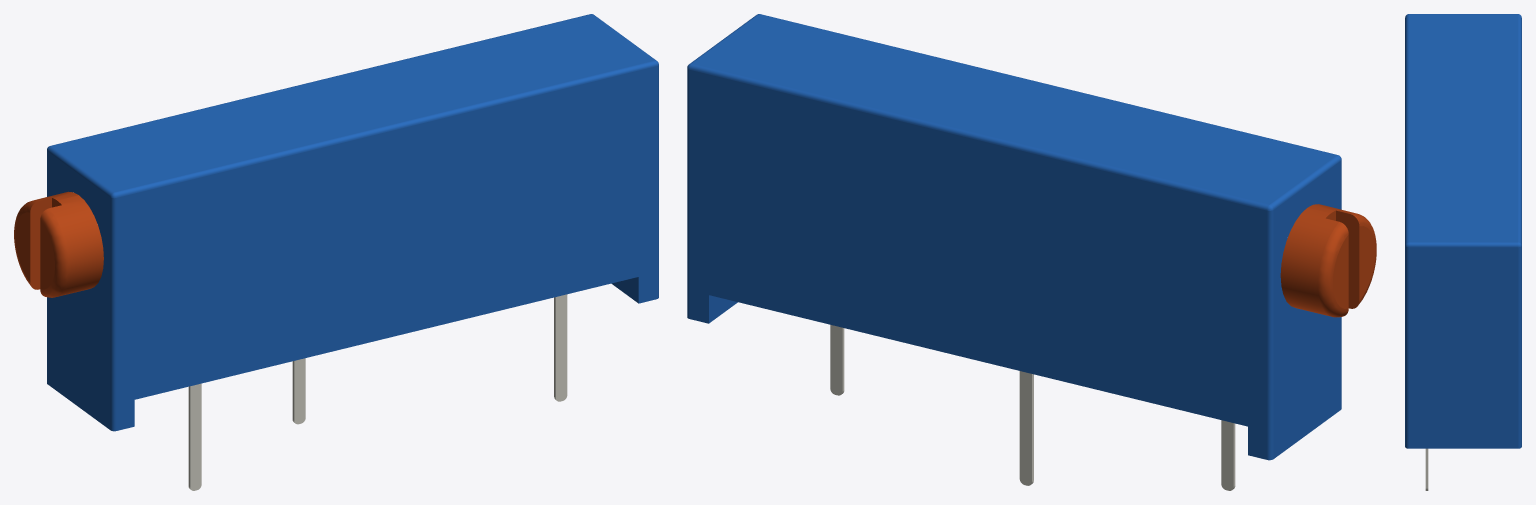
File: kc-potentiometer_bourns_3005_horizontal.glb
3 renders of one model, left to right at view 1: azimuth 30°, elevation 25°; view 2: azimuth 150°, elevation 25°; view 3: azimuth 270°, elevation 25°, orthographic. The views are drawn at different scales.
Visible parts, largest first — view 1: 0_0.16666666666666666_0.5_0, 0.4166666666666667_0.08333333333333333_0_0, 0.6666666666666666_0.6666666666666666_0.5833333333333334_0.8; view 2: 0_0.16666666666666666_0.5_0, 0.4166666666666667_0.08333333333333333_0_0, 0.6666666666666666_0.6666666666666666_0.5833333333333334_0.8; view 3: 0_0.16666666666666666_0.5_0, 0.6666666666666666_0.6666666666666666_0.5833333333333334_0.8.
Part boxes in pixels (x1,y1,x2,y2): 0_0.16666666666666666_0.5_0: (47, 14, 658, 431); 0.4166666666666667_0.08333333333333333_0_0: (14, 191, 103, 297); 0.6666666666666666_0.6666666666666666_0.5833333333333334_0.8: (188, 294, 567, 490); 0_0.16666666666666666_0.5_0: (687, 14, 1341, 460); 0.4166666666666667_0.08333333333333333_0_0: (1280, 204, 1376, 317); 0.6666666666666666_0.6666666666666666_0.5833333333333334_0.8: (830, 325, 1235, 490); 0_0.16666666666666666_0.5_0: (1405, 14, 1521, 448); 0.6666666666666666_0.6666666666666666_0.5833333333333334_0.8: (1425, 448, 1428, 490).
Bounding box in the file's own units: 2.06 × 1.09 × 0.4061.
